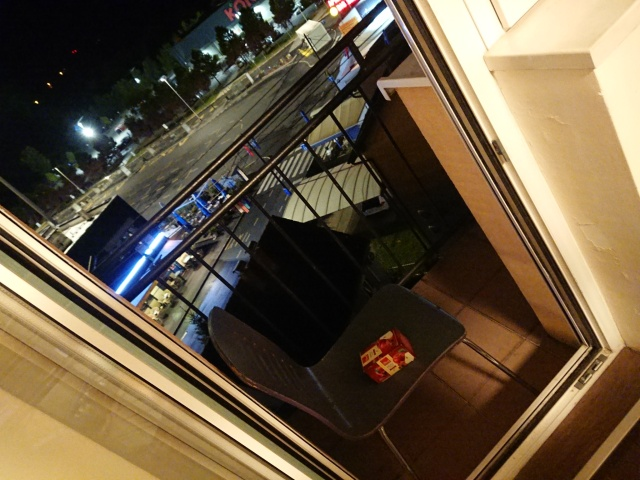Franck Apple Cinnamon Tea 60g: (356, 325, 418, 386)
